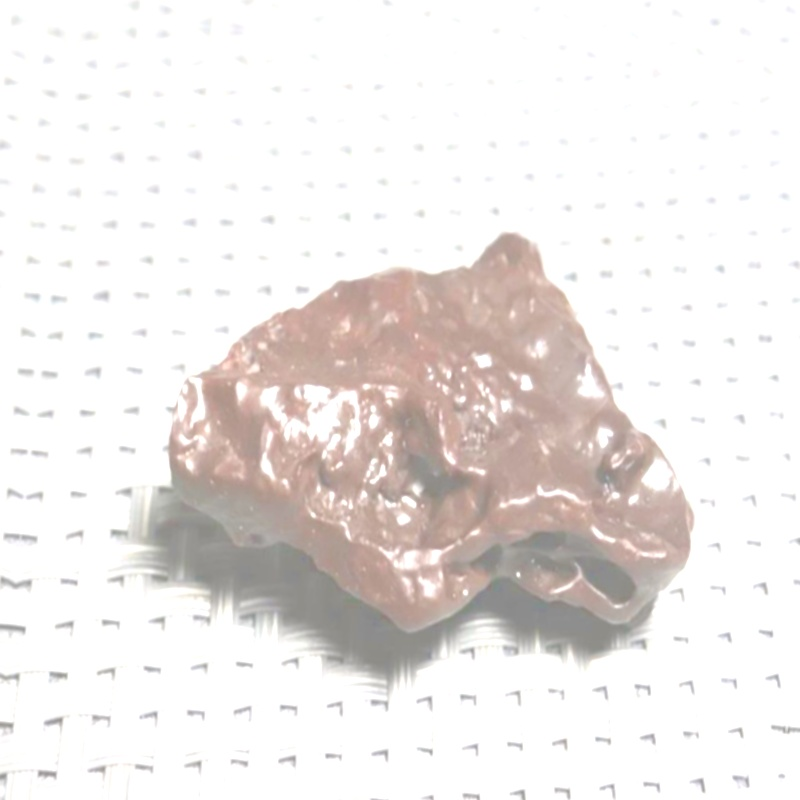halobolite: (136, 190, 735, 675)
